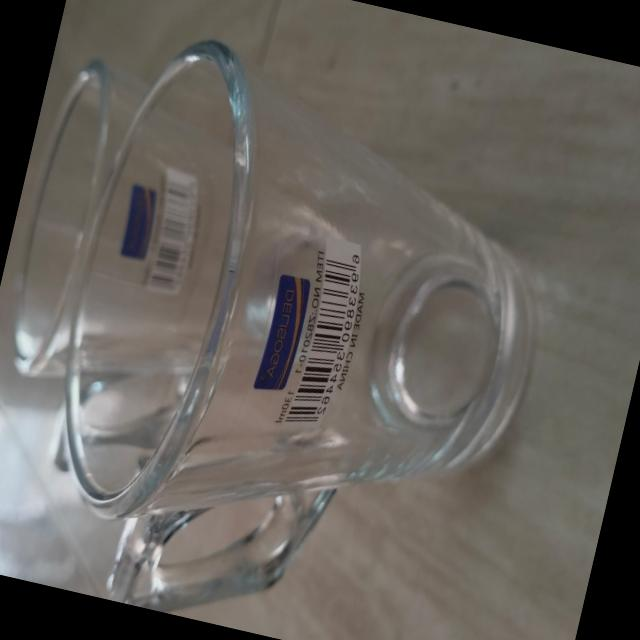glass-VX4N: (13, 28, 579, 640), (0, 44, 397, 540)
